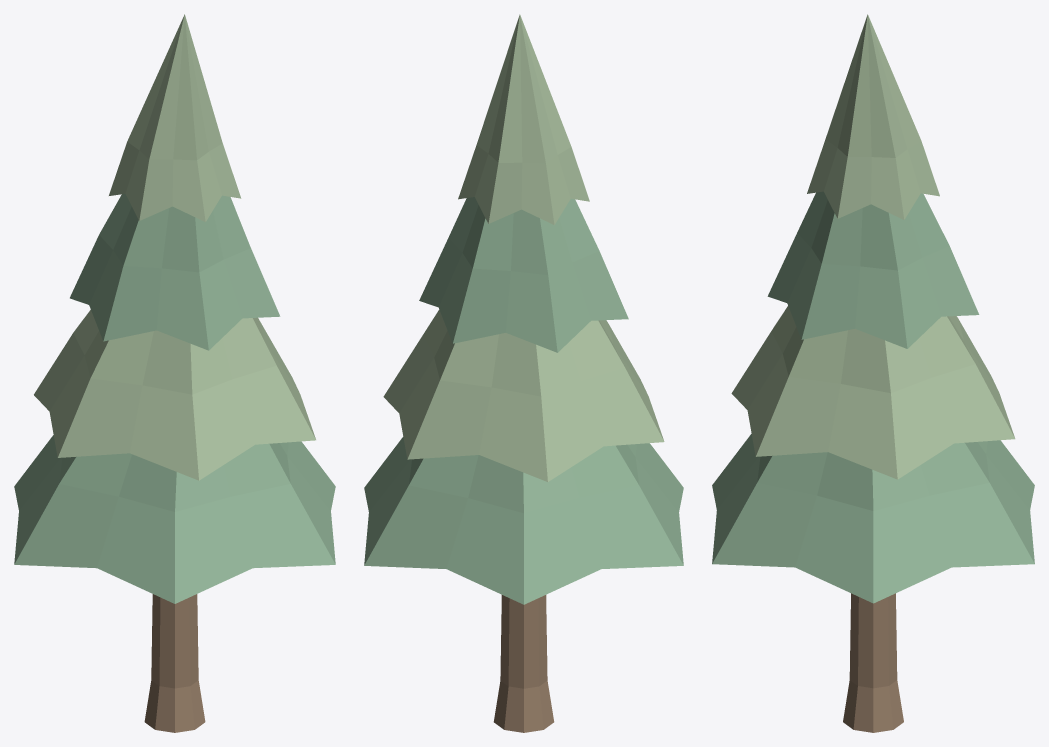
File: pine_tree.glb
3 views of the same model, side by side, from view 1: azimuth 30°, elevation 25°; view 2: azimuth 150°, elevation 25°; view 3: azimuth 270°, elevation 25° (orthographic).
Parts seen in each view (by area): view 1: pine_bough_tier_0, pine_bough_tier_1, pine_bough_tier_2, pine_bough_tier_3, pine_trunk; view 2: pine_bough_tier_0, pine_bough_tier_1, pine_bough_tier_2, pine_bough_tier_3, pine_trunk; view 3: pine_bough_tier_0, pine_bough_tier_1, pine_bough_tier_2, pine_bough_tier_3, pine_trunk.
Boxes of the visible parts, x1=… form: pine_bough_tier_0: x1=14, y1=435, x2=335, y2=603; pine_bough_tier_1: x1=34, y1=309, x2=315, y2=480; pine_bough_tier_2: x1=70, y1=194, x2=280, y2=350; pine_bough_tier_3: x1=109, y1=14, x2=241, y2=221; pine_trunk: x1=144, y1=594, x2=205, y2=732; pine_bough_tier_0: x1=364, y1=437, x2=683, y2=604; pine_bough_tier_1: x1=383, y1=310, x2=664, y2=481; pine_bough_tier_2: x1=419, y1=197, x2=628, y2=352; pine_bough_tier_3: x1=458, y1=14, x2=589, y2=224; pine_trunk: x1=493, y1=595, x2=554, y2=732; pine_bough_tier_0: x1=712, y1=434, x2=1034, y2=603; pine_bough_tier_1: x1=731, y1=306, x2=1015, y2=479; pine_bough_tier_2: x1=767, y1=191, x2=979, y2=348; pine_bough_tier_3: x1=807, y1=14, x2=939, y2=219; pine_trunk: x1=843, y1=593, x2=903, y2=732.
Size of the model in its own units: 1.62 by 3.4 by 1.4.
